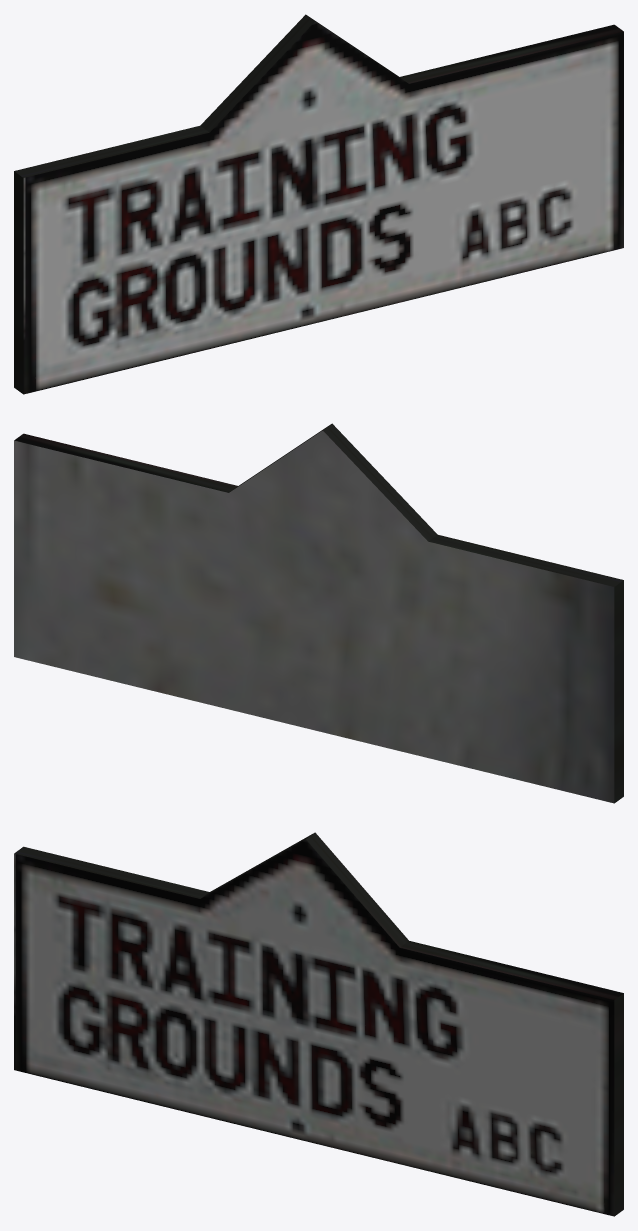
File: Training_Sign5.fbx
The picture shows the model from 3 angles, top to bottom: view 1: azimuth 30°, elevation 25°; view 2: azimuth 150°, elevation 25°; view 3: azimuth 330°, elevation 25°; orthographic projection.
Visible parts, largest first — view 1: tabula; view 2: tabula; view 3: tabula.
Boxes of the visible parts, left/top/right/bottom form: tabula: left=14, top=14, right=623, bottom=394; tabula: left=14, top=423, right=623, bottom=803; tabula: left=14, top=832, right=623, bottom=1216.
Size of the model in its own units: 72.88 by 35.02 by 2.
